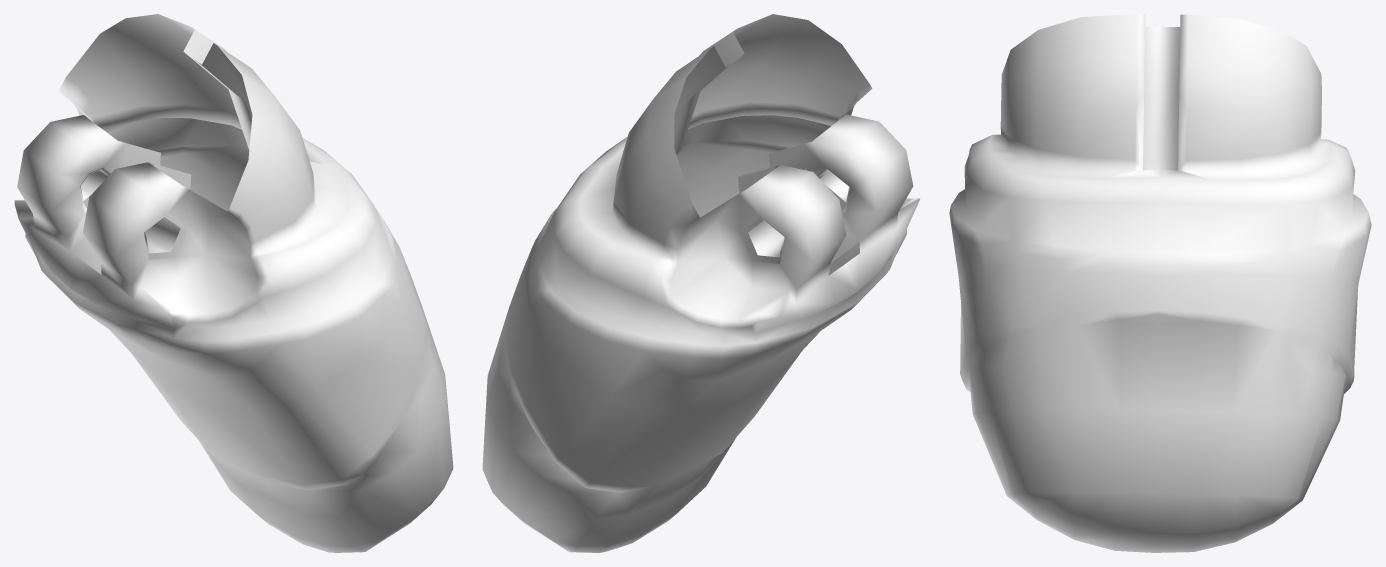
The model's file is RThumb2.dae.
3 renders of one model, left to right at view 1: azimuth 30°, elevation 25°; view 2: azimuth 150°, elevation 25°; view 3: azimuth 270°, elevation 25°, orthographic. The views are drawn at different scales.
Parts seen in each view (by area): view 1: RThumb2; view 2: RThumb2; view 3: RThumb2.
Part boxes in pixels (x1,y1,x2,y2): RThumb2: (14, 14, 453, 552); RThumb2: (482, 14, 919, 552); RThumb2: (949, 14, 1371, 552).
Size of the model in its own units: 0.1435 by 0.1622 by 0.2047.
1 material, 1 textured.
